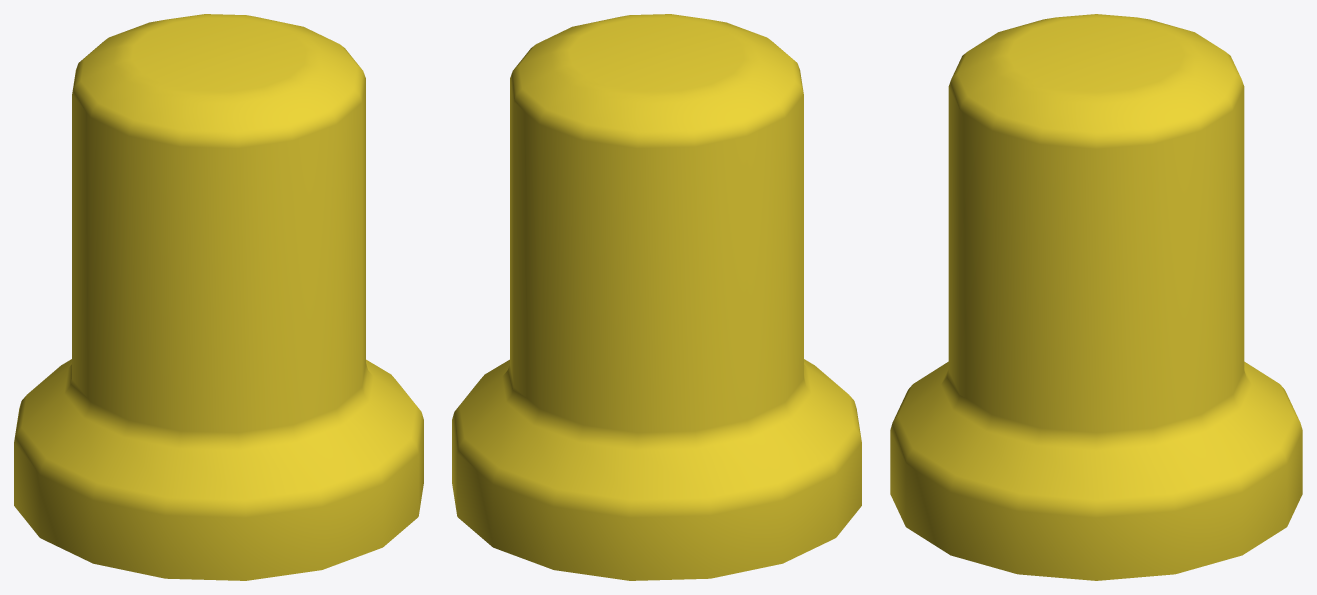
The model's file is pawn_yellow.fbx.
The picture shows the model from 3 angles, left to right: view 1: azimuth 30°, elevation 25°; view 2: azimuth 150°, elevation 25°; view 3: azimuth 270°, elevation 25°; orthographic projection.
Parts seen in each view (by area): view 1: Pawn_Yellow; view 2: Pawn_Yellow; view 3: Pawn_Yellow.
Boxes of the visible parts, box(x1,y1,x2,y2) form: Pawn_Yellow: box(14, 14, 423, 580); Pawn_Yellow: box(452, 14, 861, 580); Pawn_Yellow: box(890, 14, 1302, 580).
Bounding box in the file's own units: 6.49 × 7.61 × 6.49.
Materials: 1 (1 with a texture image).
